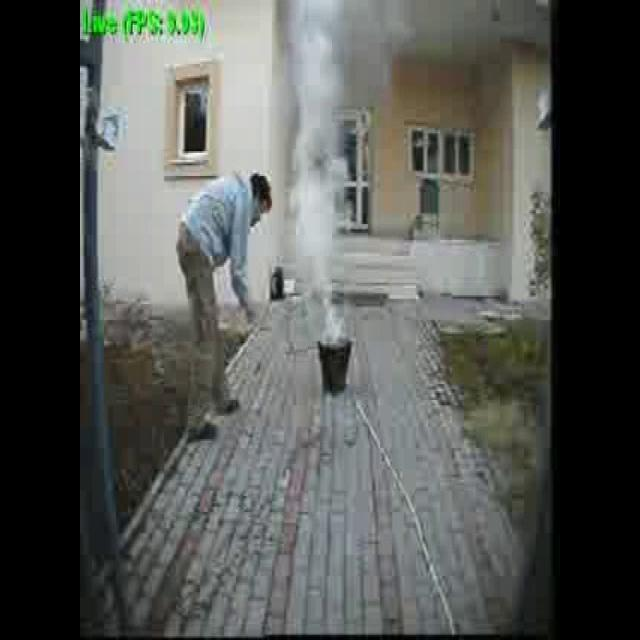Smoke: (286, 0, 354, 348), (270, 0, 412, 129)
